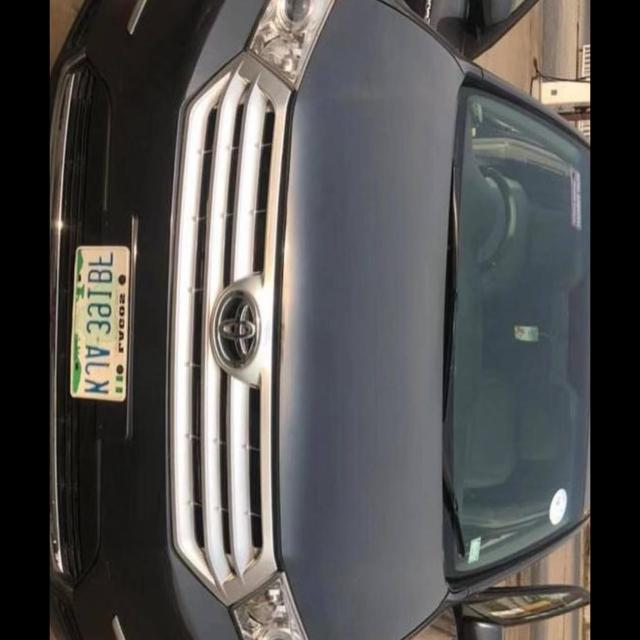Nigerian License Plate - vdataset benjamin-daria: (65, 240, 133, 403)
